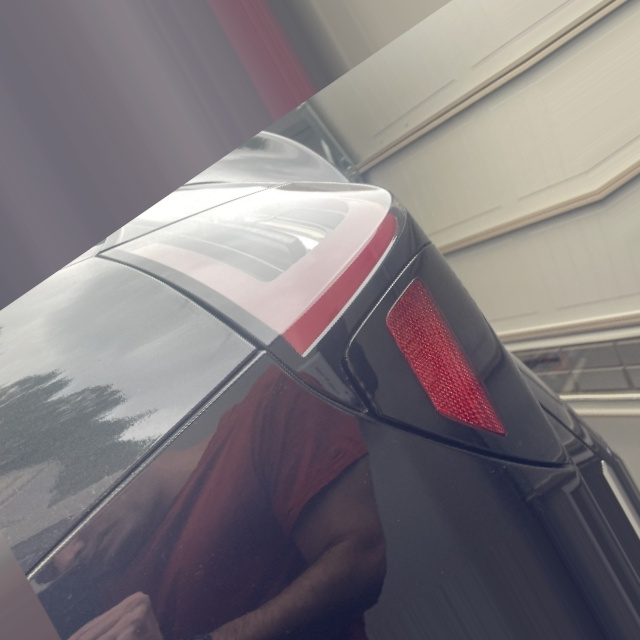reflector: (373, 273, 511, 467)
